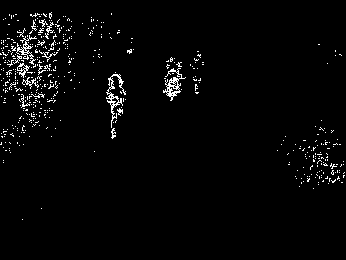person: (106, 73, 124, 139), (190, 48, 204, 97)
